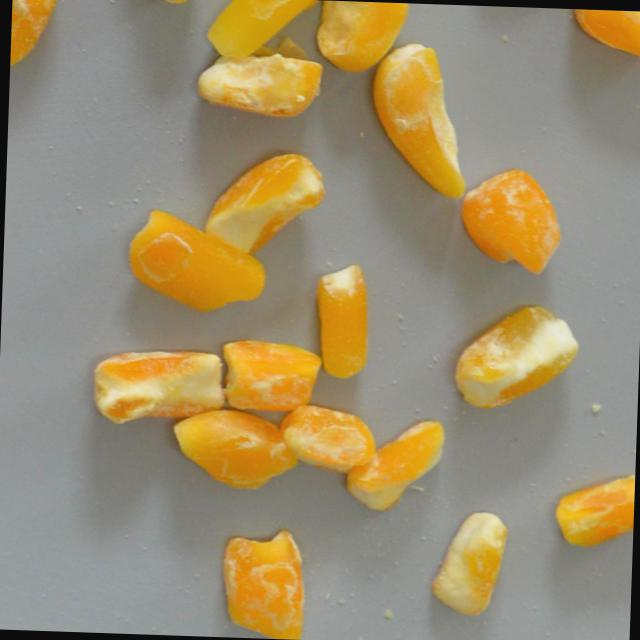estandar: (310, 264, 372, 387), (566, 8, 640, 64)
pelicula: (125, 216, 273, 316), (333, 84, 497, 167), (93, 344, 227, 443), (212, 526, 325, 640), (328, 412, 458, 511), (177, 397, 307, 496), (447, 311, 577, 409), (203, 155, 333, 253), (462, 167, 575, 278), (196, 36, 325, 121), (201, 340, 322, 418), (200, 0, 335, 63), (553, 459, 635, 556), (416, 530, 525, 595), (316, 0, 410, 75), (292, 388, 363, 484), (9, 0, 83, 52)
